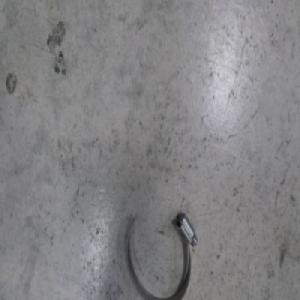AdjustableClamp: (125, 210, 198, 300)
